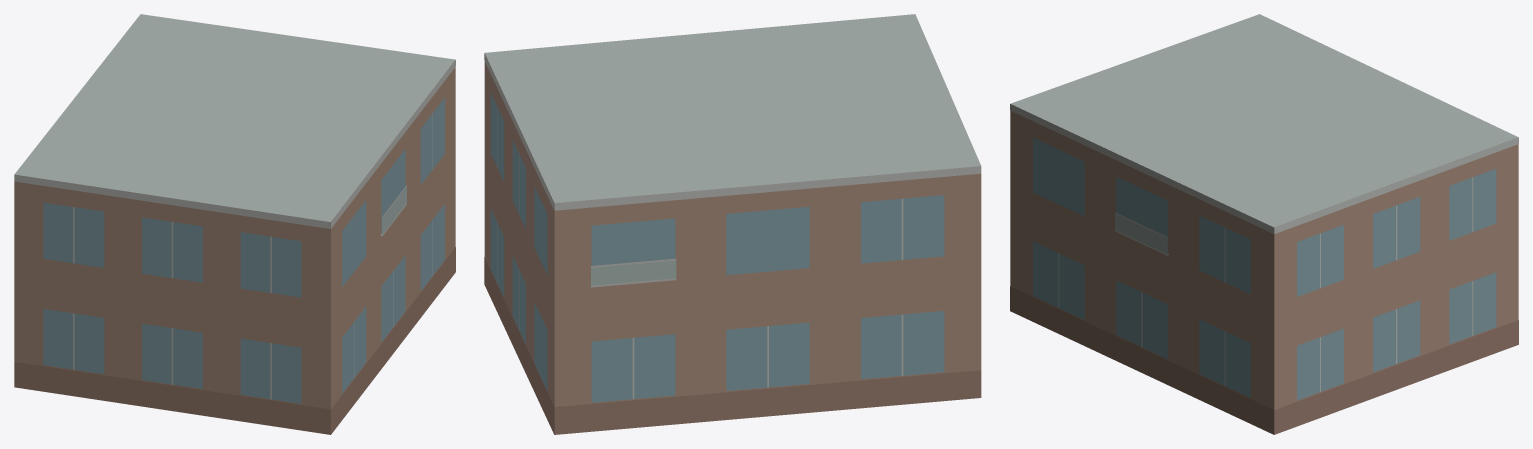
Rendered from survey-upis-32992986.glb.
3 views of the same model, side by side, from view 1: azimuth 30°, elevation 25°; view 2: azimuth 150°, elevation 25°; view 3: azimuth 270°, elevation 25° (orthographic). The views are drawn at different scales.
Visible parts, largest first — view 1: survey-upis-32992986.tmp; view 2: survey-upis-32992986.tmp; view 3: survey-upis-32992986.tmp.
Part boxes in pixels (box(x1,y1,x2,y2)): survey-upis-32992986.tmp: box(14, 14, 455, 434); survey-upis-32992986.tmp: box(484, 14, 981, 434); survey-upis-32992986.tmp: box(1010, 14, 1518, 434).
Bounding box in the file's own units: 16.57 × 7.5 × 16.68.
